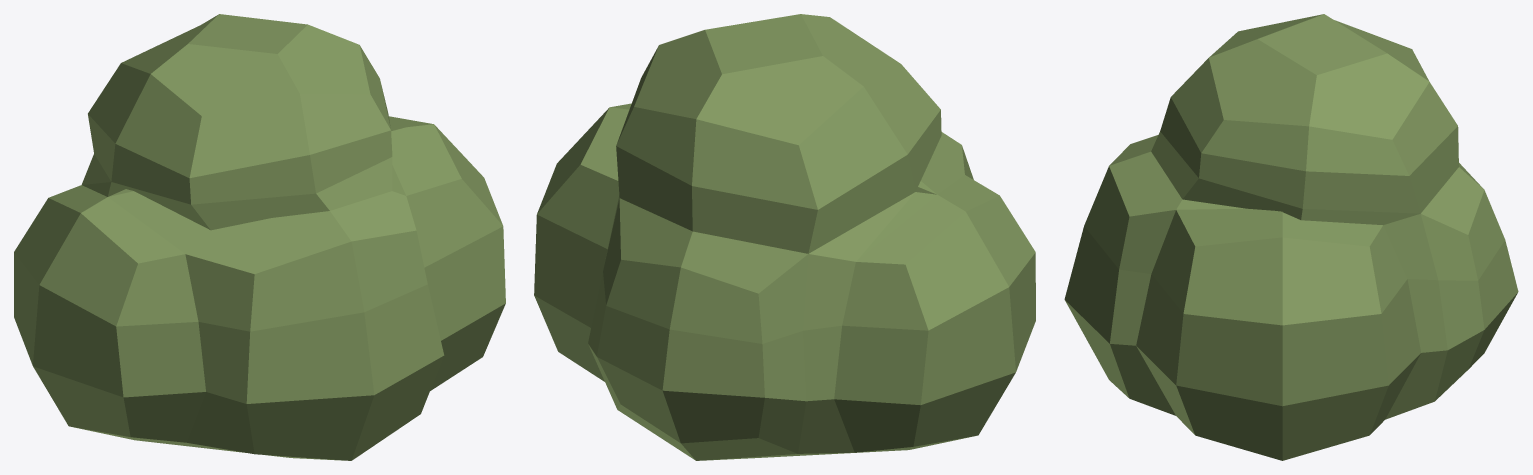
File: Bush1.fbx
3 views of the same model, side by side, from view 1: azimuth 30°, elevation 25°; view 2: azimuth 150°, elevation 25°; view 3: azimuth 270°, elevation 25° (orthographic). The views are drawn at different scales.
Visible parts, largest first — view 1: Cube.004; view 2: Cube.004; view 3: Cube.004.
Part boxes in pixels (x1=…): Cube.004: x1=14, y1=14, x2=505, y2=460; Cube.004: x1=534, y1=14, x2=1035, y2=460; Cube.004: x1=1064, y1=14, x2=1518, y2=460.
Bounding box in the file's own units: 1.65 × 1.48 × 1.37.
